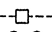Cable Termination Box: (11, 6, 33, 26)
